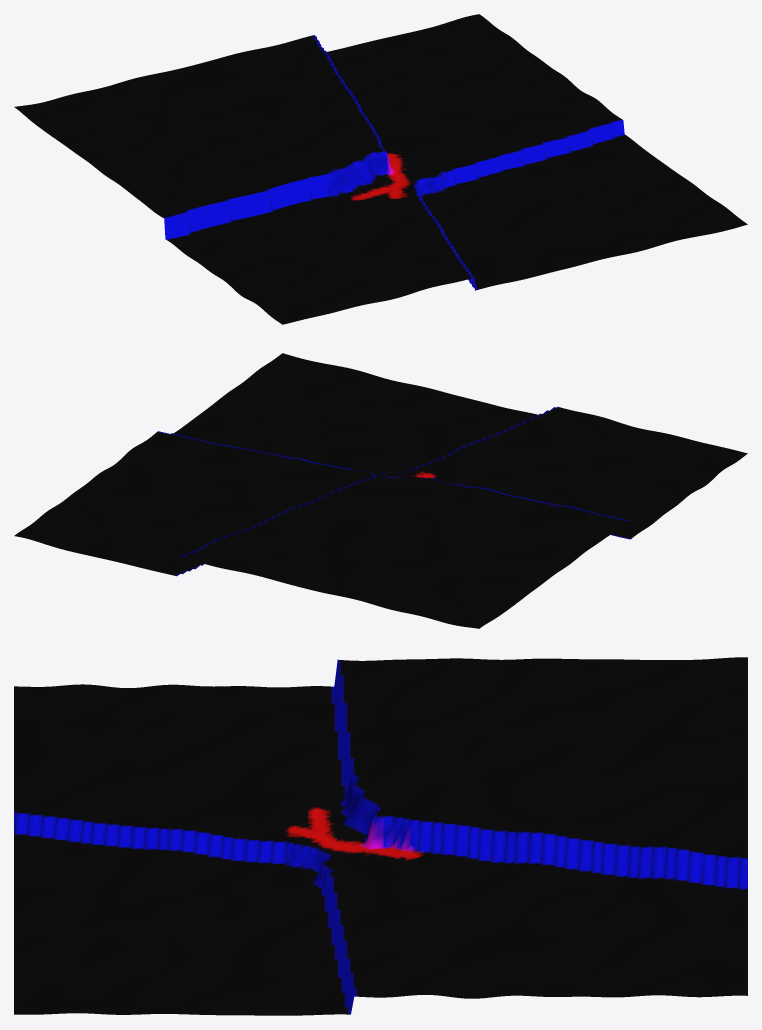
Rendered from terrain.glb.
3 renders of one model, top to bottom at view 1: azimuth 30°, elevation 25°; view 2: azimuth 150°, elevation 25°; view 3: azimuth 270°, elevation 25°, orthographic. The views are drawn at different scales.
Visible parts, largest first — view 1: terrain; view 2: terrain; view 3: terrain.
Part boxes in pixels (bbox=[...]): terrain: bbox=[14, 14, 747, 324]; terrain: bbox=[14, 353, 747, 628]; terrain: bbox=[14, 657, 747, 1015].
Size of the model in its own units: 110 by 8.29 by 110.
